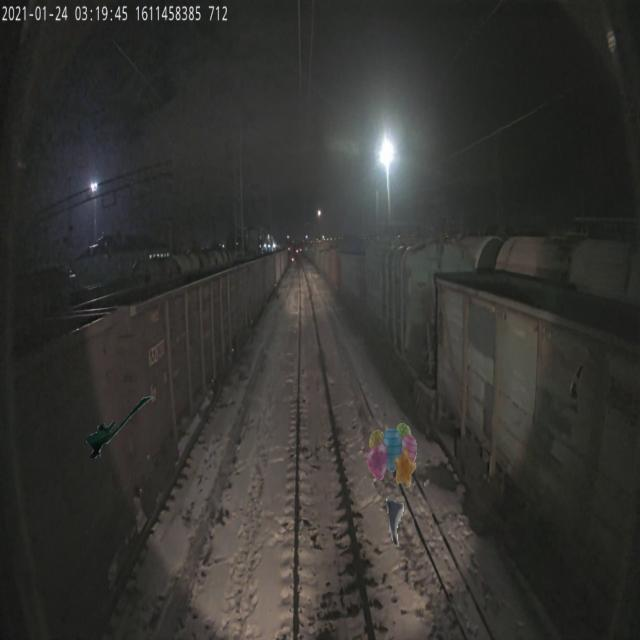balloon: (367, 422, 418, 487)
floating object: (86, 394, 154, 458), (385, 484, 404, 548)
